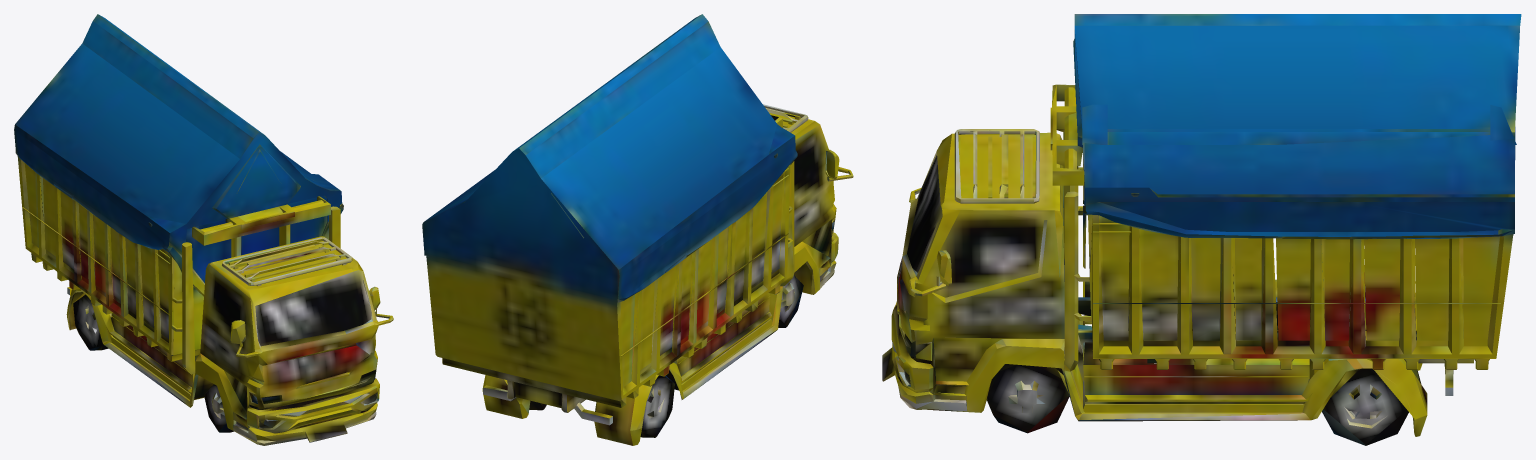
File: truck_lod2.glb
The picture shows the model from 3 angles, left to right: view 1: azimuth 30°, elevation 25°; view 2: azimuth 150°, elevation 25°; view 3: azimuth 270°, elevation 25°; orthographic projection. The views are drawn at different scales.
Parts seen in each view (by area): view 1: tripo_node_1766eb5a; view 2: tripo_node_1766eb5a; view 3: tripo_node_1766eb5a.
Part boxes in pixels (box(x1,y1,x2,y2)): tripo_node_1766eb5a: box(14, 14, 393, 445); tripo_node_1766eb5a: box(422, 14, 853, 445); tripo_node_1766eb5a: box(882, 14, 1521, 445).
Size of the model in its own units: 44.39 by 66.6 by 99.38.
Materials: 1 (1 with a texture image).
